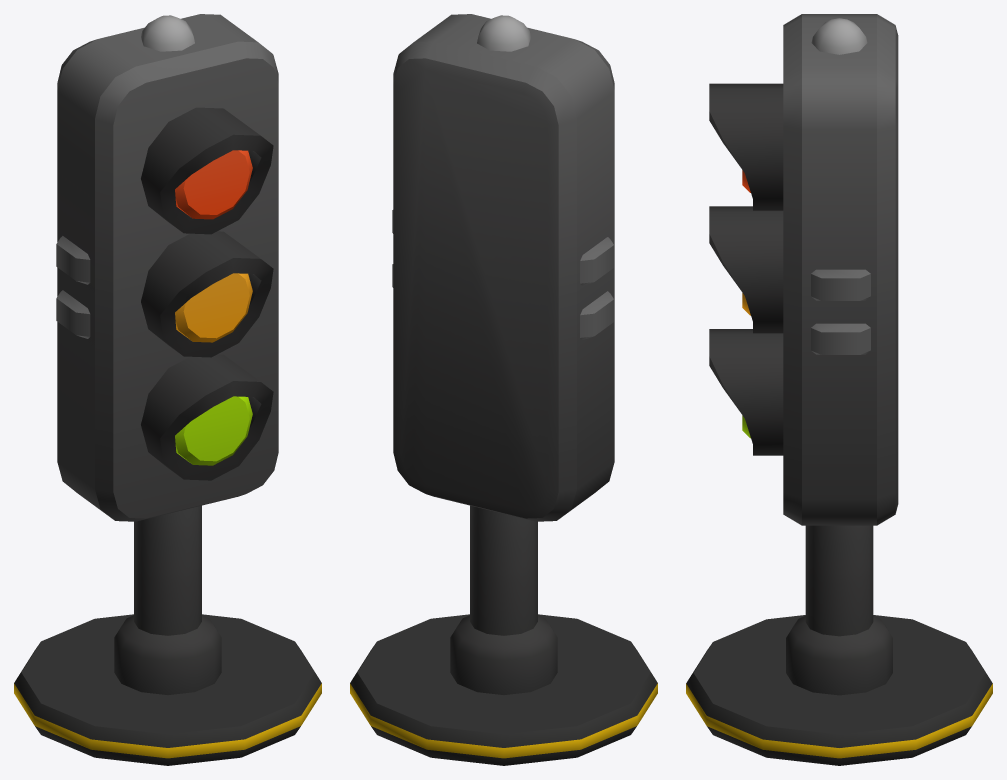
Rendered from Traffic_Signal_01.fbx.
The picture shows the model from 3 angles, left to right: view 1: azimuth 30°, elevation 25°; view 2: azimuth 150°, elevation 25°; view 3: azimuth 270°, elevation 25°; orthographic projection.
Visible parts, largest first — view 1: Traffic_Signal_01; view 2: Traffic_Signal_01; view 3: Traffic_Signal_01.
Boxes of the visible parts, bbox=[...] form: Traffic_Signal_01: bbox=[14, 14, 321, 765]; Traffic_Signal_01: bbox=[350, 14, 657, 765]; Traffic_Signal_01: bbox=[686, 14, 992, 765].
Bounding box in the file's own units: 90.94 × 224 × 90.94.
